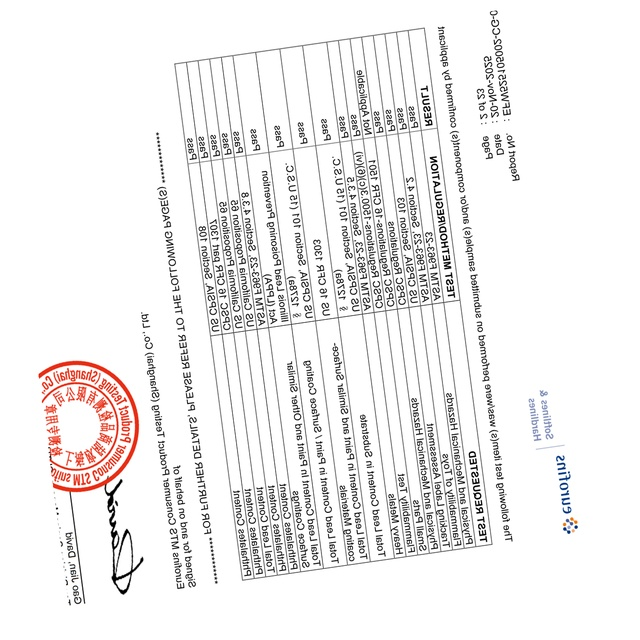eurofins: (546, 451, 581, 537)
